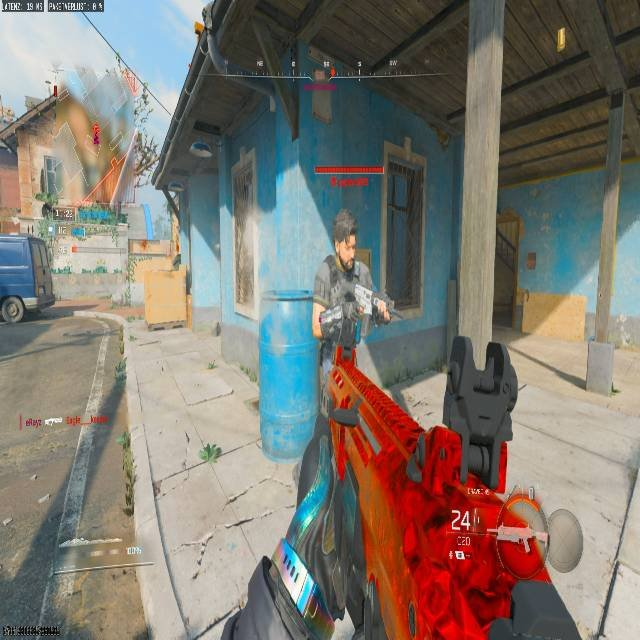head: (332, 208, 359, 263)
player: (314, 209, 393, 425)
